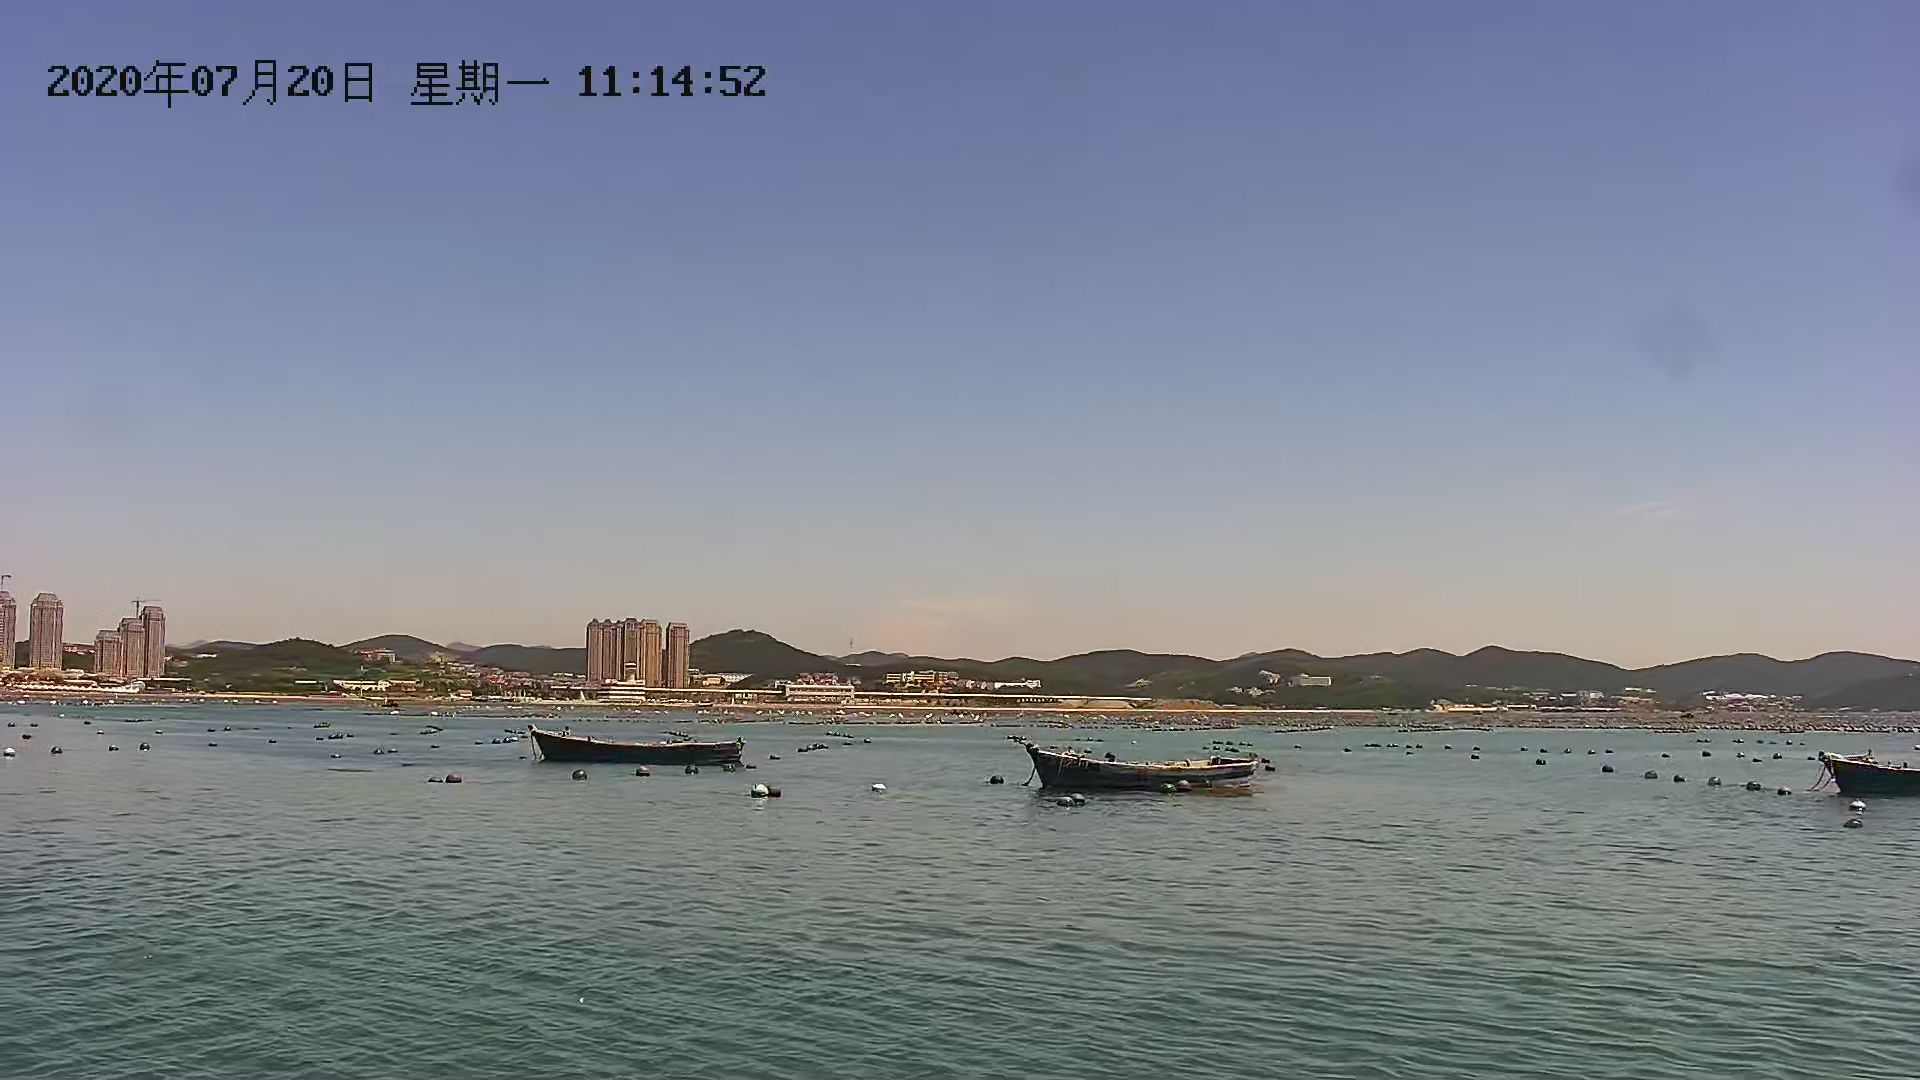ball: (742, 782, 796, 804), (1058, 794, 1088, 814)
boat: (1023, 736, 1267, 793), (510, 727, 757, 771), (1807, 750, 1920, 787)
